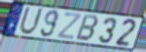2: (114, 18, 138, 48)
3: (98, 17, 118, 45)
9: (39, 9, 60, 39)
B: (74, 13, 100, 42)
U: (17, 5, 44, 37)
Z: (55, 11, 83, 41)
